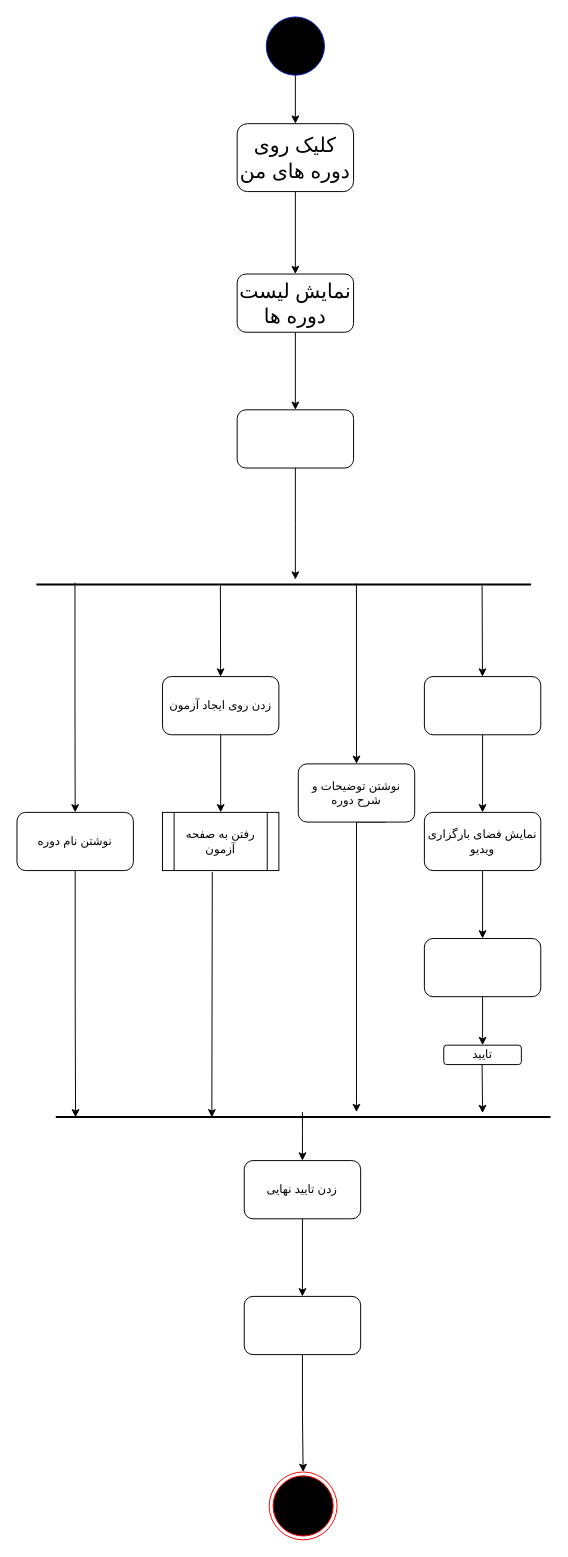
The diagram is 568 pixels wide and 1557 high, and some of its shapes have lost their labels. Each missing label, with the box of its shape:
بارگذاری محتوا: (423, 938, 541, 997)
ذخیره در دیتابیس: (243, 1295, 361, 1355)
زدن روی بارگزاری محتوا: (423, 676, 541, 735)
کلیک روی ایجاد دوره: (236, 409, 354, 468)
